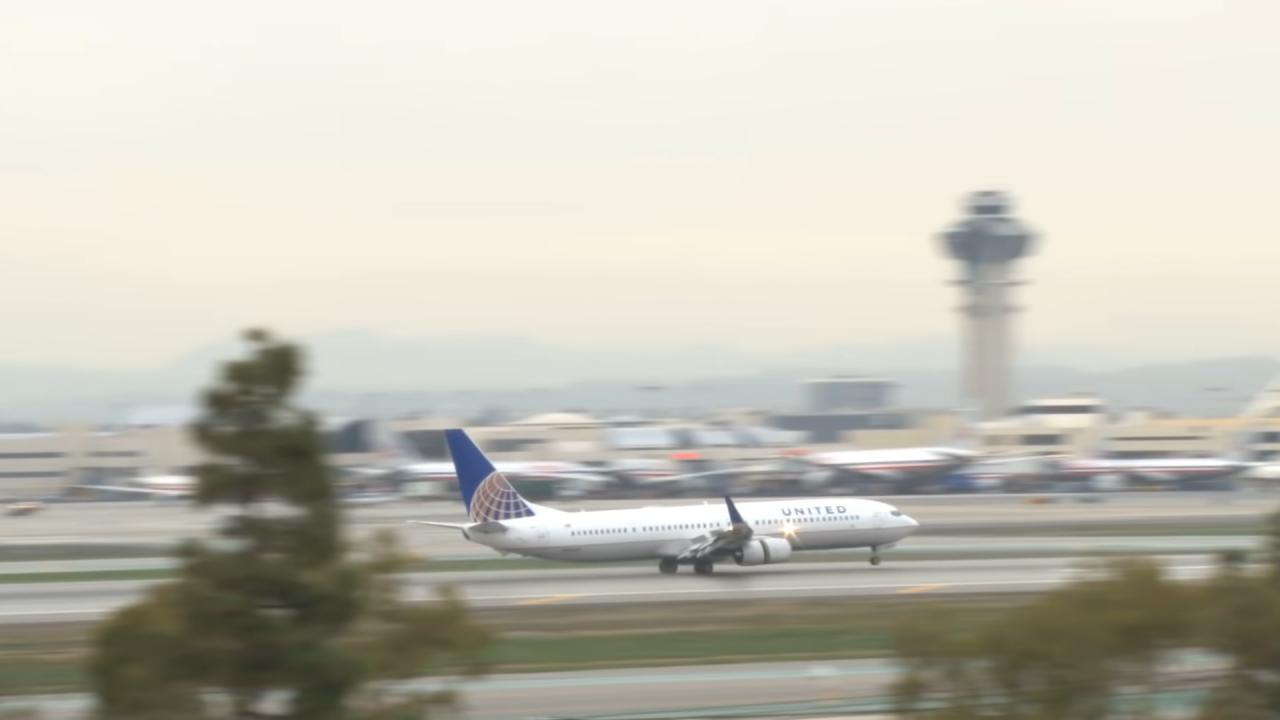Airplane: (397, 414, 942, 598)
